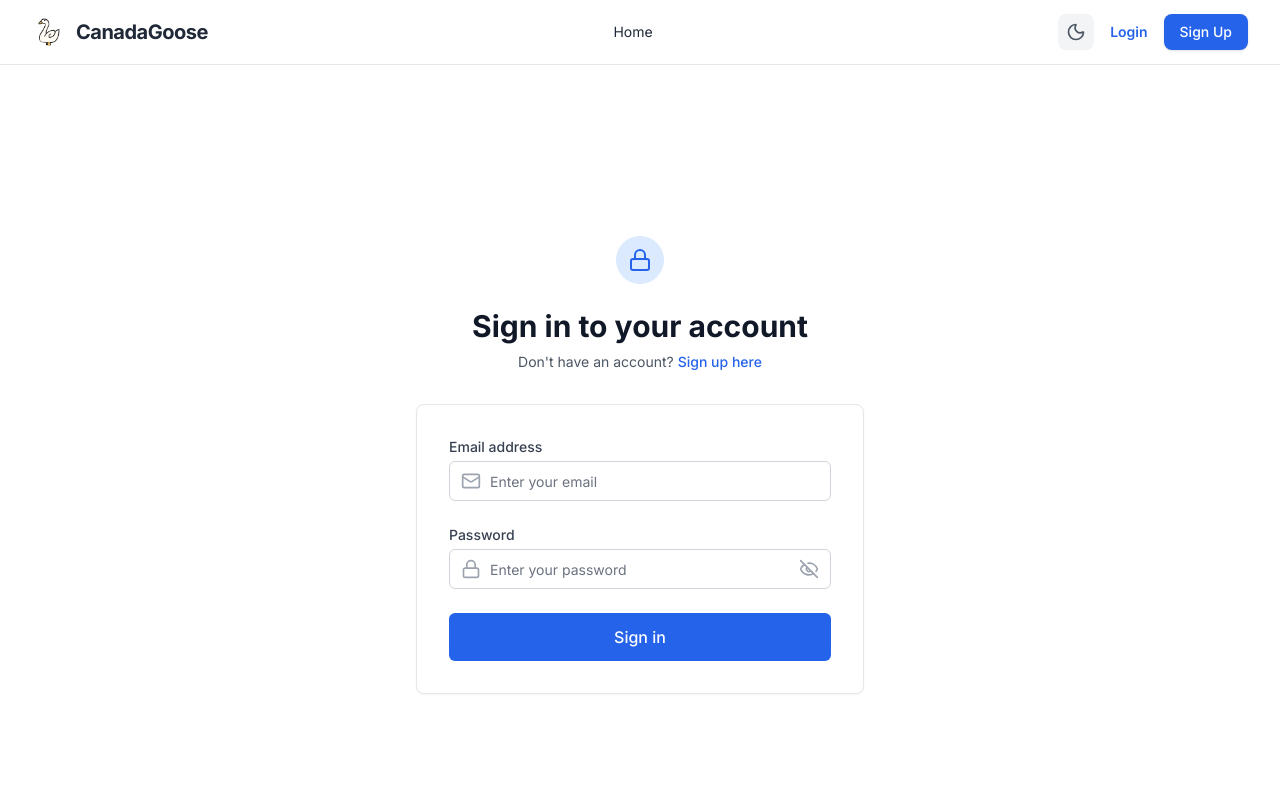
Login Page › validates required fields
The image size is (1280, 800).
Step 1. Click the button with test id "submit-button" → (640,637), box [449, 613, 831, 661]
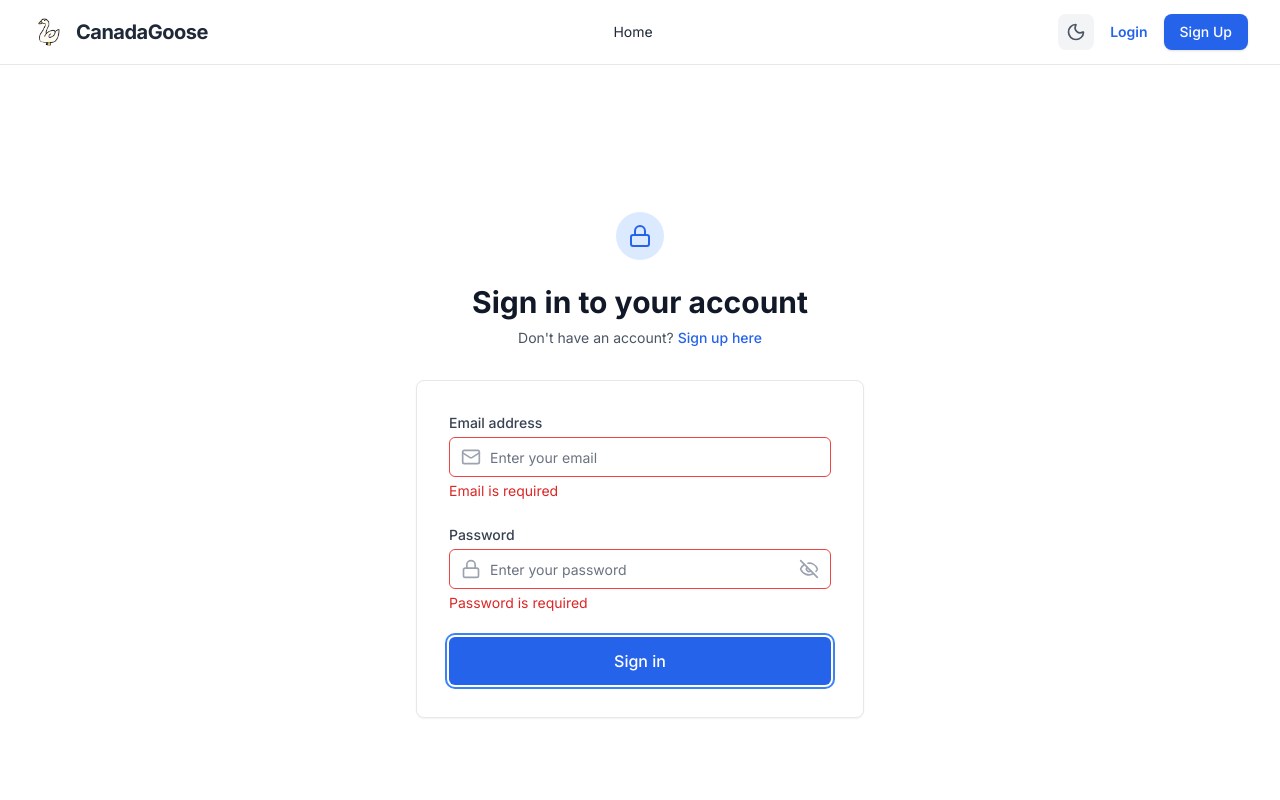
expect the text with test id "email-error" reads "Email is required": met, box [449, 482, 558, 499]
expect the text with test id "password-error" reads "Password is required": met, box [449, 594, 588, 611]
